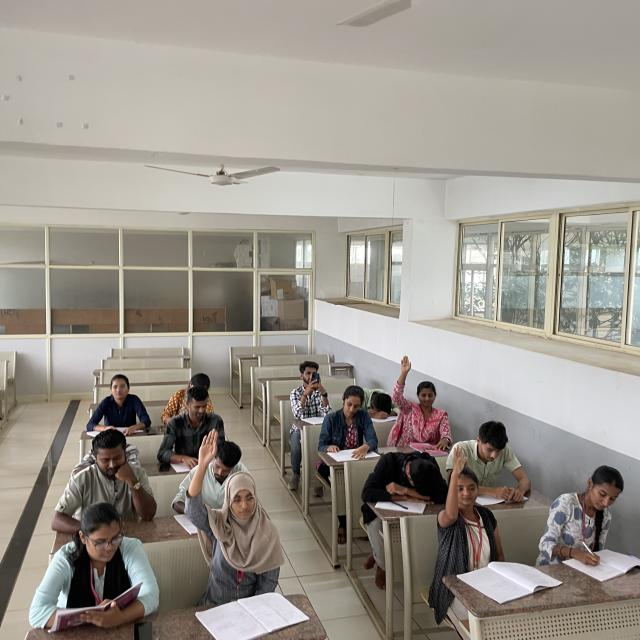Hand Rising: (191, 428, 280, 589), (440, 443, 499, 561), (394, 351, 448, 437)
Reading: (34, 502, 159, 632), (460, 417, 530, 508), (320, 385, 379, 462), (164, 390, 212, 474)
Sleeping: (362, 452, 447, 504), (360, 379, 403, 420)
Using Phone: (291, 362, 329, 417)
Writing: (541, 460, 640, 580)
